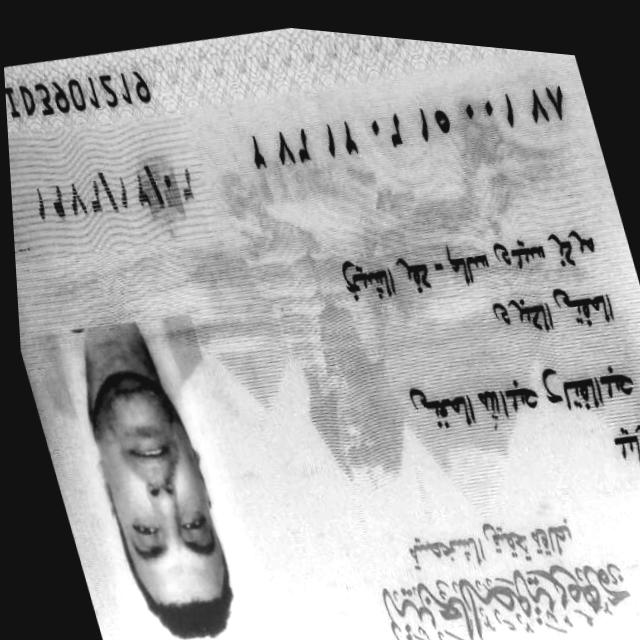front: (4, 28, 640, 640)
